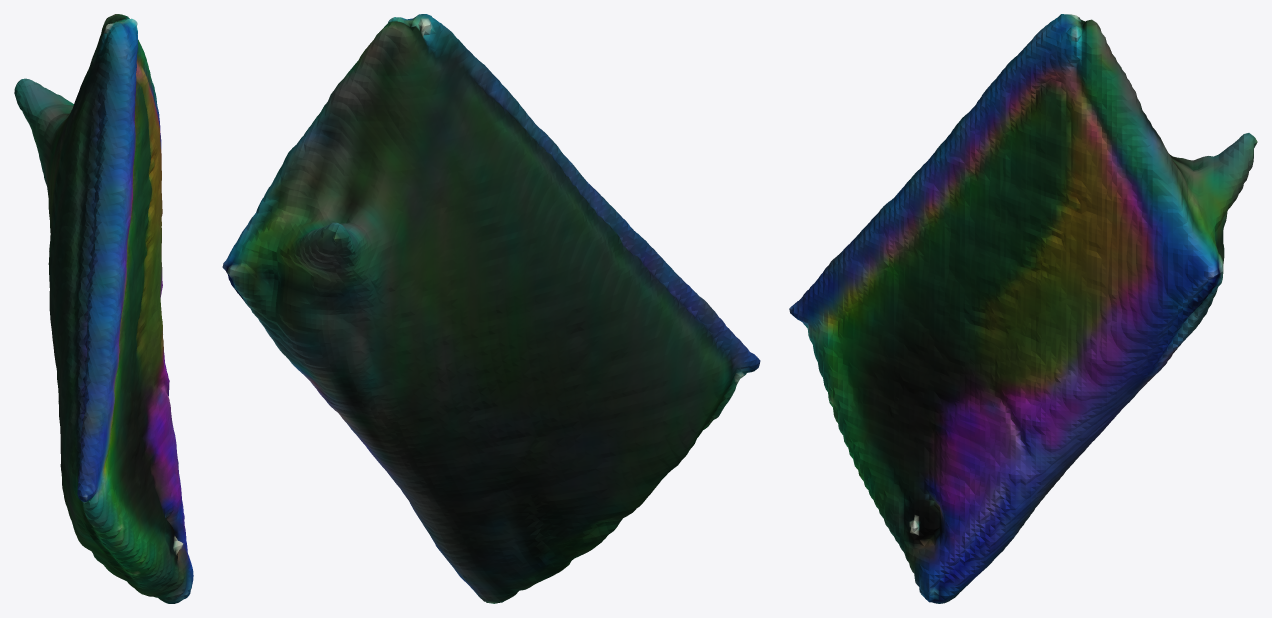
3 renders of one model, left to right at view 1: azimuth 30°, elevation 25°; view 2: azimuth 150°, elevation 25°; view 3: azimuth 270°, elevation 25°, orthographic. The views are drawn at different scales.
Bounding box in the file's own units: 0.4475 × 0.8738 × 0.6301.
